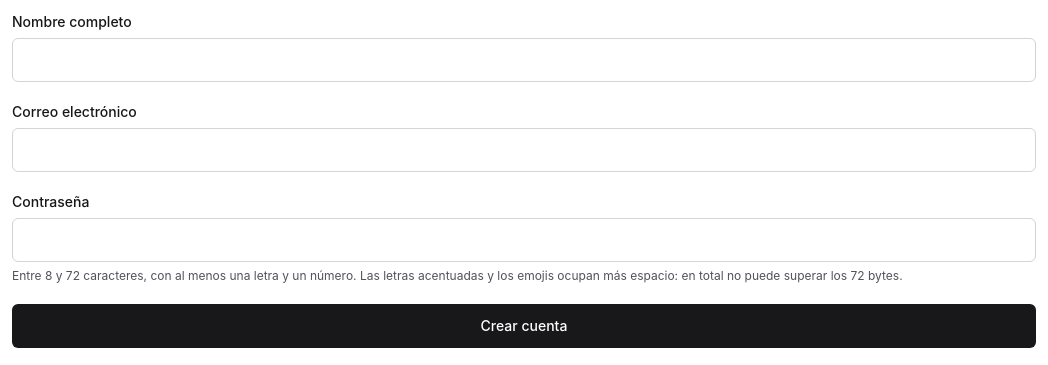
Test: 001/US1 - Registro de cuenta › Alta exitosa
Type "Ana Pérez" into the field labelled "Nombre completo" at (524, 60), box [12, 38, 1036, 82]
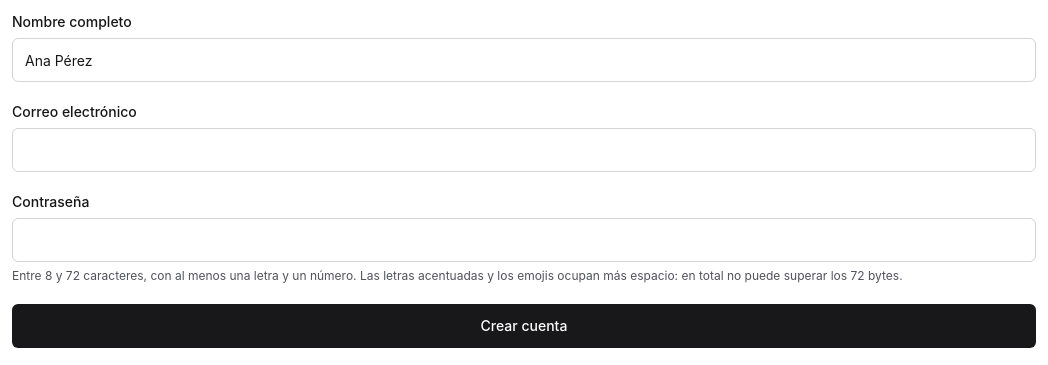
Type "ana@example.com" into the field labelled "Correo electrónico" at (524, 150), box [12, 128, 1036, 172]
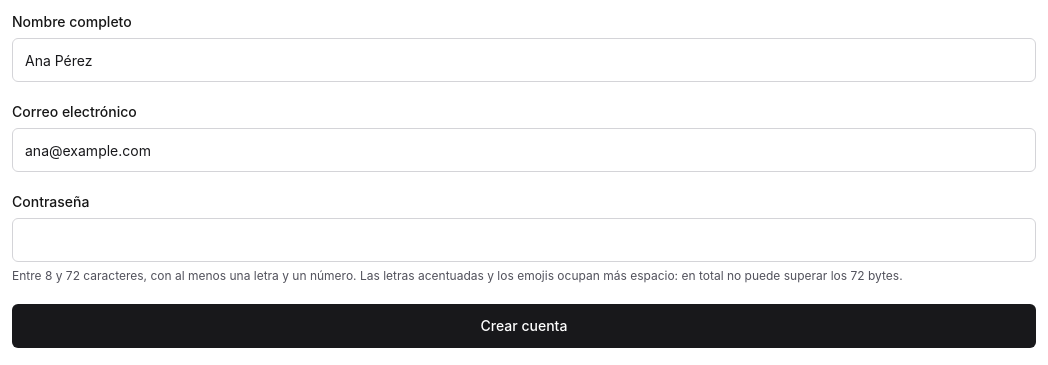
Type "Proyecto2026" into the password field labelled "Contraseña" at (524, 240), box [12, 218, 1036, 262]
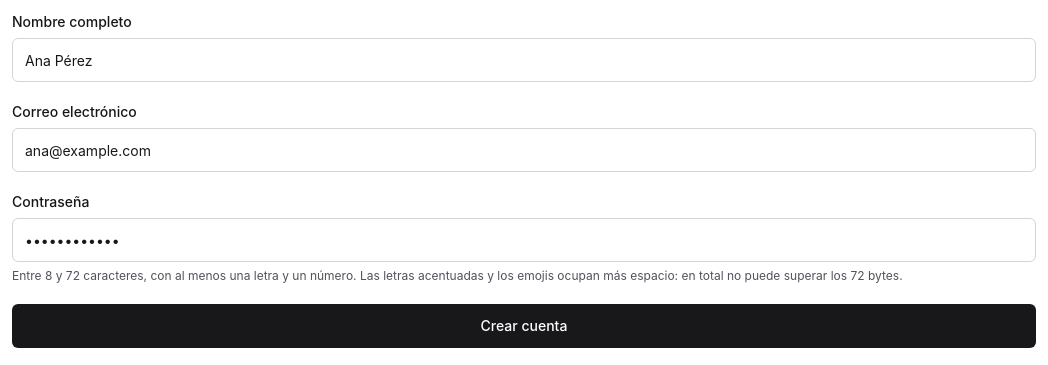
Click the button "Crear cuenta" at (524, 326), box [12, 304, 1036, 348]
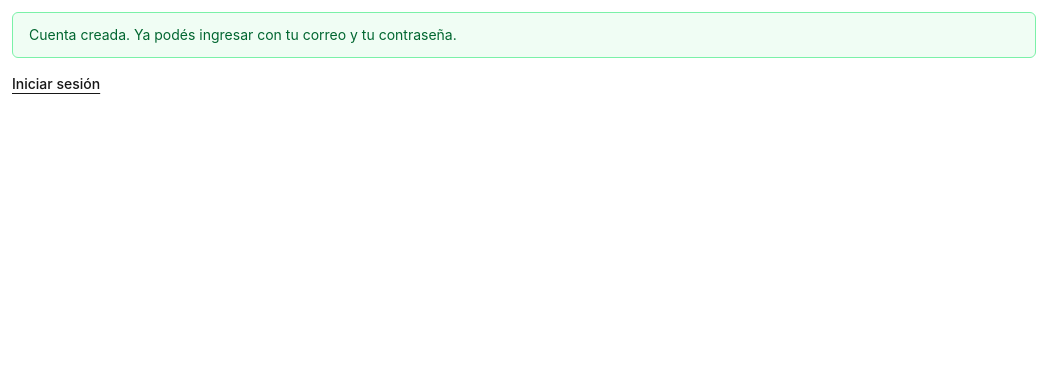
Expected: the text "Cuenta creada" is shown, [29, 26, 457, 43]
